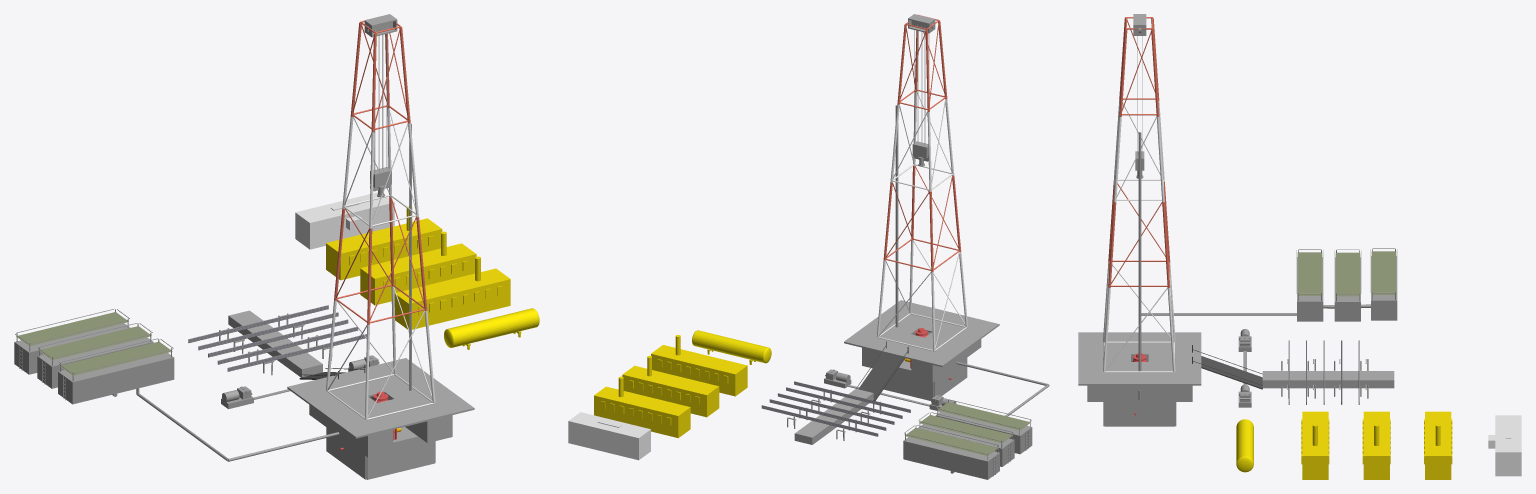
The model's file is Rig_Base.fbx.
3 renders of one model, left to right at view 1: azimuth 30°, elevation 25°; view 2: azimuth 150°, elevation 25°; view 3: azimuth 270°, elevation 25°, orthographic. The views are drawn at different scales.
Parts seen in each view (by area): view 1: RIG_Derrick_Mast, RIG_Floor, PWR_GenSet_1, MUD_Tank_1, PWR_GenSet_2, PWR_GenSet_3, PWR_SCR_House, GEO_Cellar_Structure, RIG_Substructure, PWR_Fuel_Tank, RIG_Catwalk, RIG_DrillPipe_Stack_Right (+11 smaller); view 2: RIG_Derrick_Mast, RIG_Floor, PWR_GenSet_3, PWR_GenSet_2, PWR_GenSet_1, PWR_SCR_House, MUD_Tank_3, GEO_Cellar_Structure, PWR_Fuel_Tank, RIG_DrillPipe_Stack_Left, RIG_Catwalk, RIG_DrillPipe_Stack_Right (+9 smaller); view 3: RIG_Floor, RIG_Derrick_Mast, RIG_Catwalk, PWR_GenSet_1, PWR_GenSet_2, PWR_GenSet_3, GEO_Cellar_Structure, RIG_Substructure, PWR_SCR_House, Mud_Liquid_2, Mud_Liquid_1, Mud_Liquid_3 (+7 smaller).
Part boxes in pixels (x1,y1,x2,y2): RIG_Derrick_Mast: (326,20,435,420); RIG_Floor: (287,358,474,438); PWR_GenSet_1: (394,256,510,329); MUD_Tank_1: (58,338,174,404); PWR_GenSet_2: (360,231,476,305); PWR_GenSet_3: (326,206,442,280); PWR_SCR_House: (295,192,394,249); GEO_Cellar_Structure: (326,427,435,479); RIG_Substructure: (309,396,452,457); PWR_Fuel_Tank: (444,308,539,349); RIG_Catwalk: (228,310,322,377); RIG_DrillPipe_Stack_Right: (188,320,308,371); RIG_Derrick_Mast: (876,14,967,351); RIG_Floor: (844,300,999,367); PWR_GenSet_3: (594,376,690,438); PWR_GenSet_2: (622,355,719,417); PWR_GenSet_1: (651,335,747,396); PWR_SCR_House: (568,412,650,460); MUD_Tank_3: (903,425,999,479); GEO_Cellar_Structure: (883,358,967,400); PWR_Fuel_Tank: (692,330,771,364); RIG_DrillPipe_Stack_Left: (761,381,860,424); RIG_Catwalk: (794,389,873,444); RIG_DrillPipe_Stack_Right: (811,394,910,436); RIG_Floor: (1078,332,1201,385); RIG_Derrick_Mast: (1103,17,1175,372); RIG_Catwalk: (1262,371,1394,388); PWR_GenSet_1: (1301,411,1329,479); PWR_GenSet_2: (1362,411,1390,479); PWR_GenSet_3: (1424,411,1452,479); GEO_Cellar_Structure: (1103,402,1176,426); RIG_Substructure: (1087,356,1192,401); PWR_SCR_House: (1488,415,1521,476); Mud_Liquid_2: (1335,252,1360,296); Mud_Liquid_1: (1297,252,1322,295); Mud_Liquid_3: (1371,251,1396,294).
Size of the model in its own units: 5244 by 4928 by 5050.
